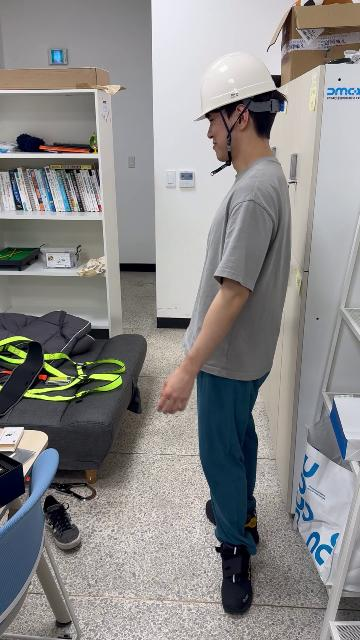helmet_worn: (192, 51, 288, 124)
shoe_not_worn: (42, 495, 82, 550)
shoe_worn: (215, 540, 252, 611), (244, 508, 259, 546)
vest_not_worn: (201, 177, 283, 381)
